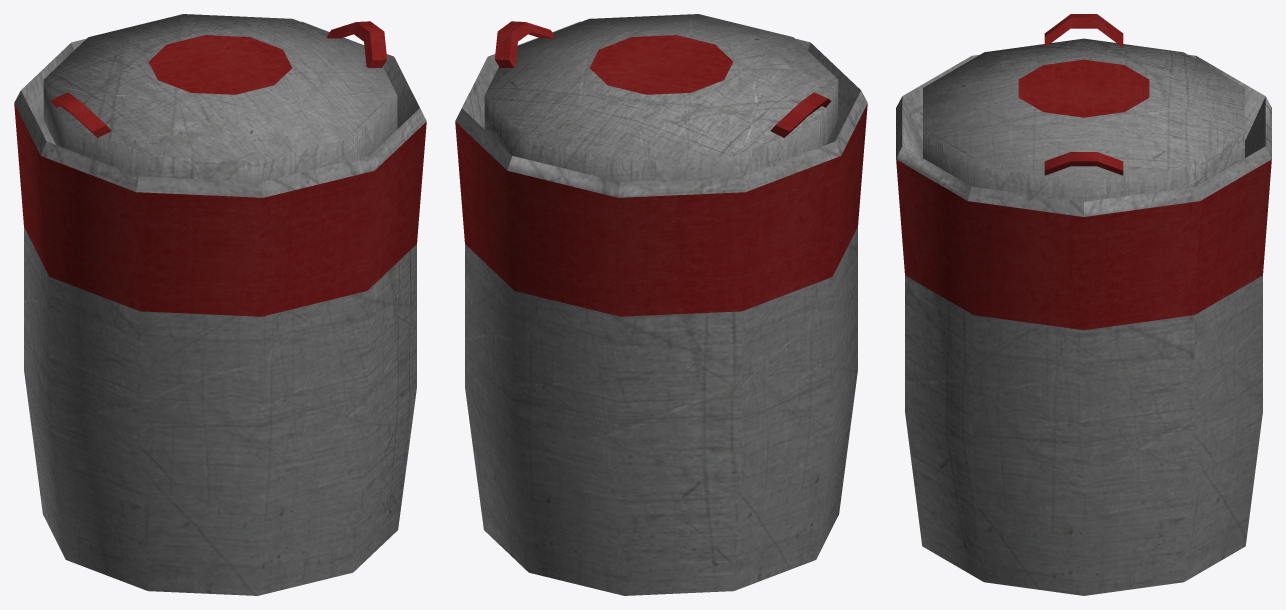
Rendered from bob_trashcan_lid.FBX.
The picture shows the model from 3 angles, left to right: view 1: azimuth 30°, elevation 25°; view 2: azimuth 150°, elevation 25°; view 3: azimuth 270°, elevation 25°; orthographic projection. The views are drawn at different scales.
Parts seen in each view (by area): view 1: trashcan-lid; view 2: trashcan-lid; view 3: trashcan-lid.
Boxes of the visible parts, <box> form: trashcan-lid: <box>14,14,426,595</box>; trashcan-lid: <box>455,14,867,595</box>; trashcan-lid: <box>896,14,1271,595</box>.
Bounding box in the file's own units: 47.51 × 58.17 × 45.19.
1 material, 1 textured.
